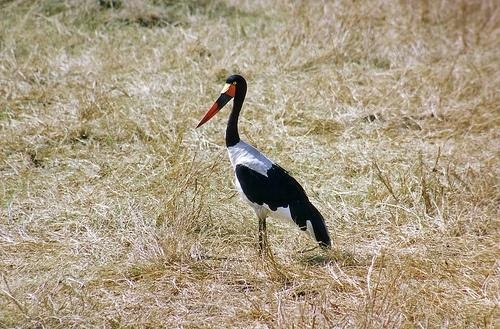bird: (196, 75, 334, 285)
